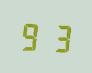nine: (19, 18, 44, 52)
three: (45, 19, 70, 54)
